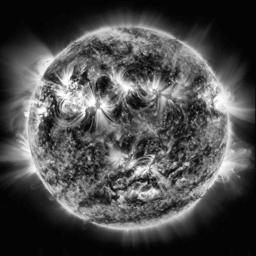solar flares: (53, 85, 91, 110), (114, 78, 135, 96), (133, 166, 164, 178), (110, 148, 129, 167), (94, 100, 112, 117), (214, 96, 224, 116)
sunspots: (122, 59, 169, 80), (42, 114, 57, 149), (128, 95, 148, 115), (172, 130, 186, 158), (89, 186, 111, 203), (93, 77, 111, 95), (75, 116, 92, 133), (183, 100, 196, 120), (136, 140, 149, 160), (118, 136, 133, 149), (110, 107, 124, 119), (78, 71, 89, 82)
